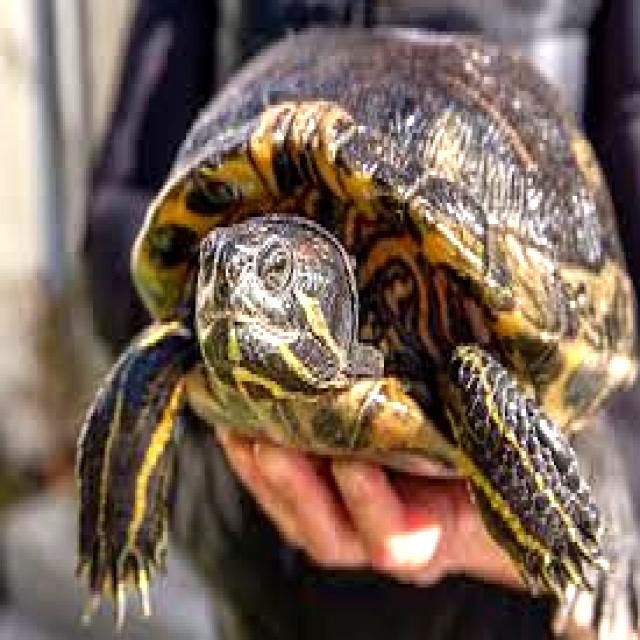Sea turtle: (56, 11, 640, 626)
